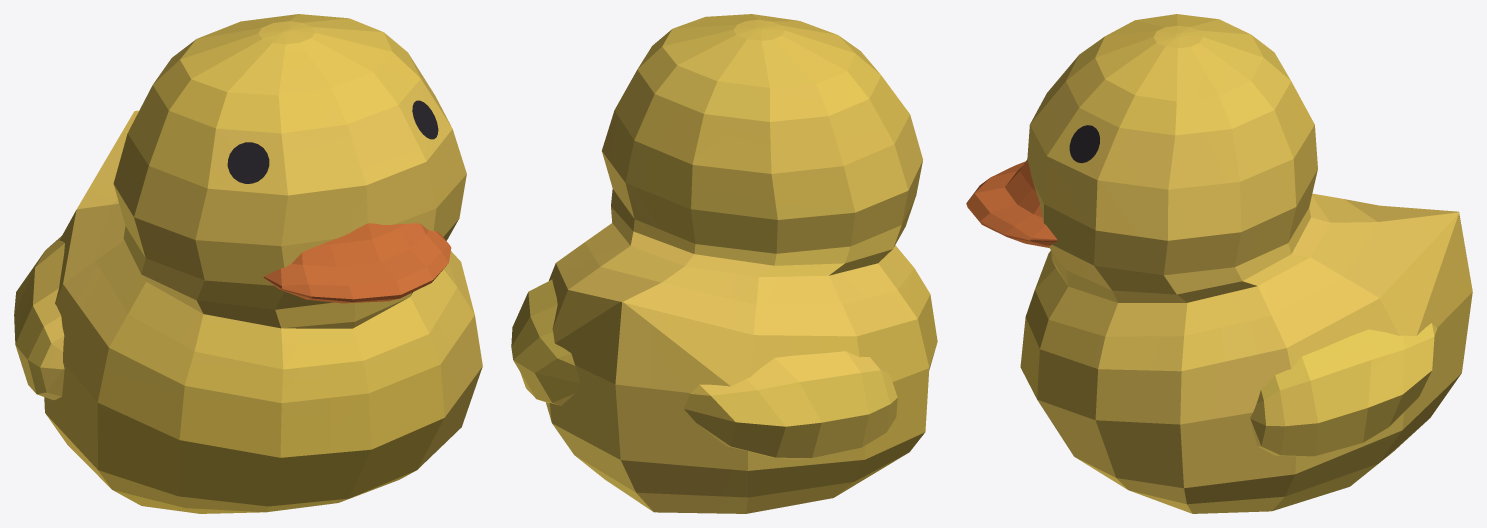
The model's file is badanka.glb.
3 views of the same model, side by side, from view 1: azimuth 30°, elevation 25°; view 2: azimuth 150°, elevation 25°; view 3: azimuth 270°, elevation 25° (orthographic). The views are drawn at different scales.
Visible parts, largest first — view 1: Rubber_duck; view 2: Rubber_duck; view 3: Rubber_duck.
Boxes of the visible parts, <box> form: Rubber_duck: <box>14,14,482,513</box>; Rubber_duck: <box>511,14,937,513</box>; Rubber_duck: <box>966,14,1472,513</box>.
Bounding box in the file's own units: 0.058 × 0.0615 × 0.0678.
Materials: 1 (1 with a texture image).
